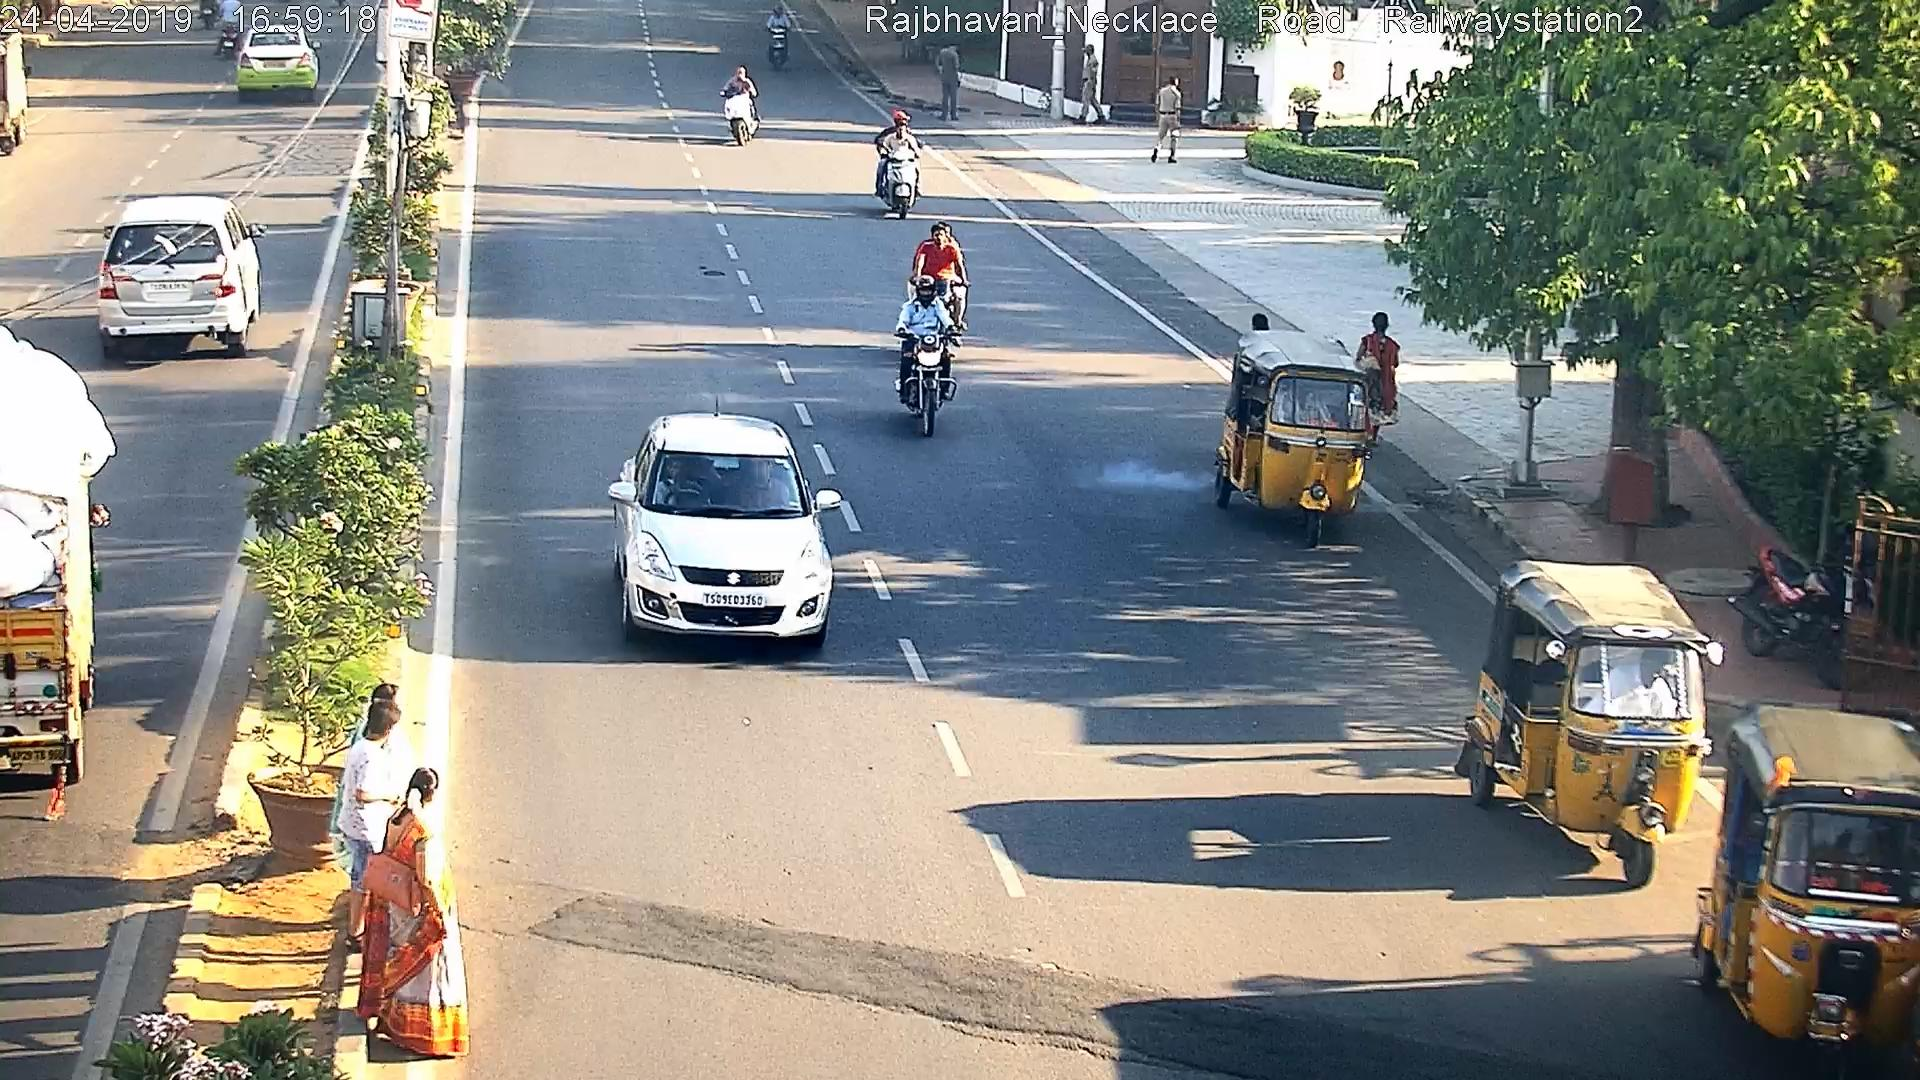2Wheeler: (899, 274, 957, 434), (872, 107, 924, 224), (717, 59, 761, 144)
